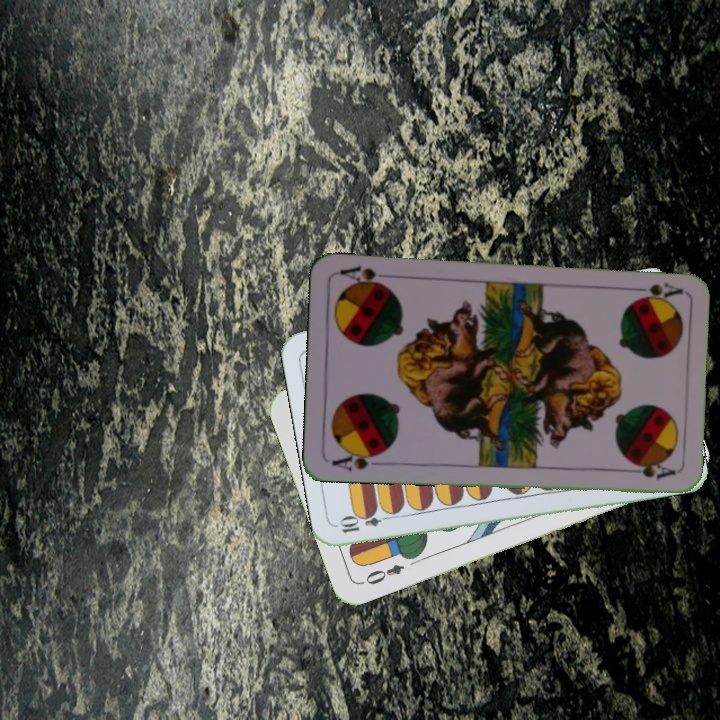E10: (336, 509, 395, 536)
EO: (357, 560, 407, 588)
SA: (327, 446, 387, 474), (624, 279, 684, 300)
